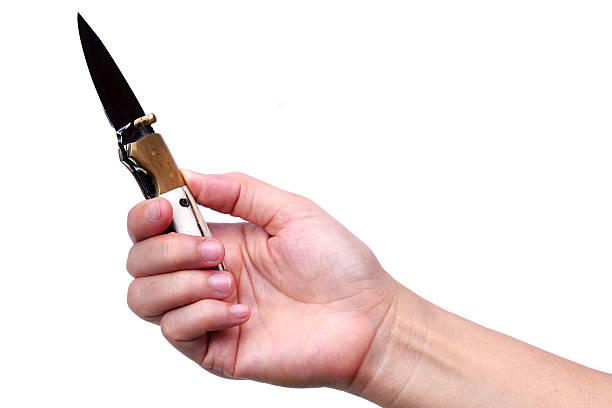knife: (74, 10, 227, 271)
